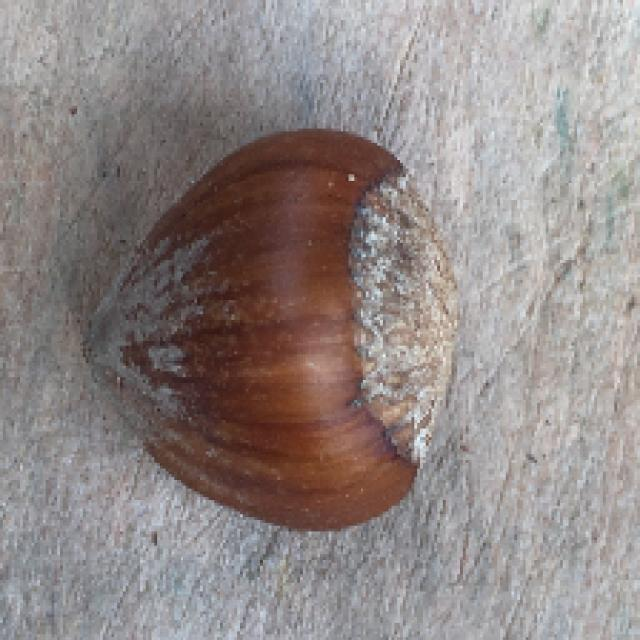damagedHazelnut: (79, 126, 449, 534)
